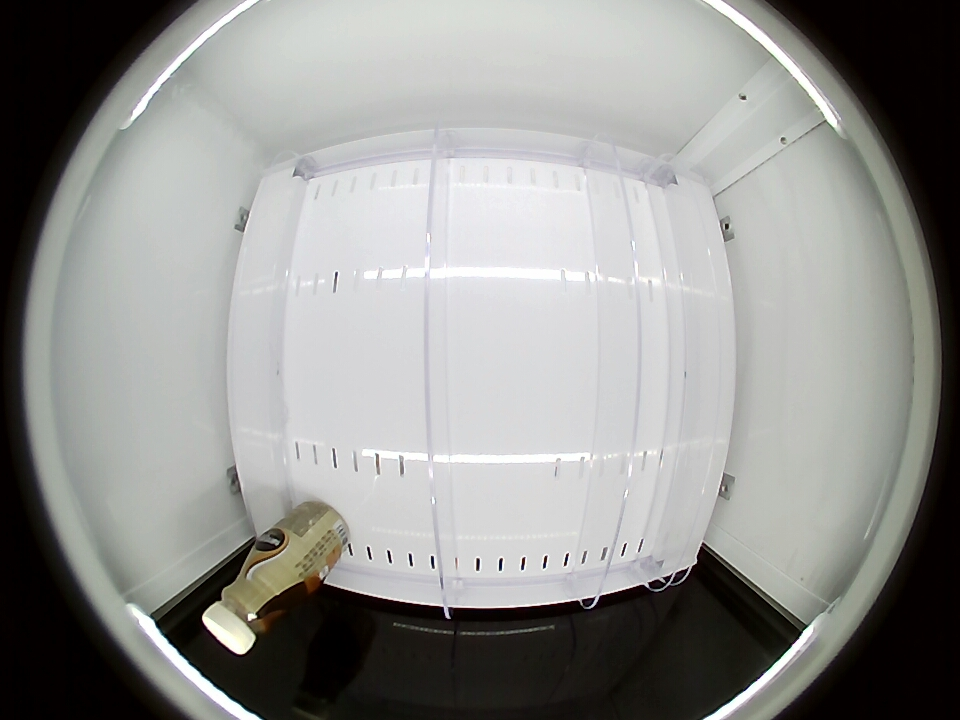kafei: (203, 547, 302, 656)
